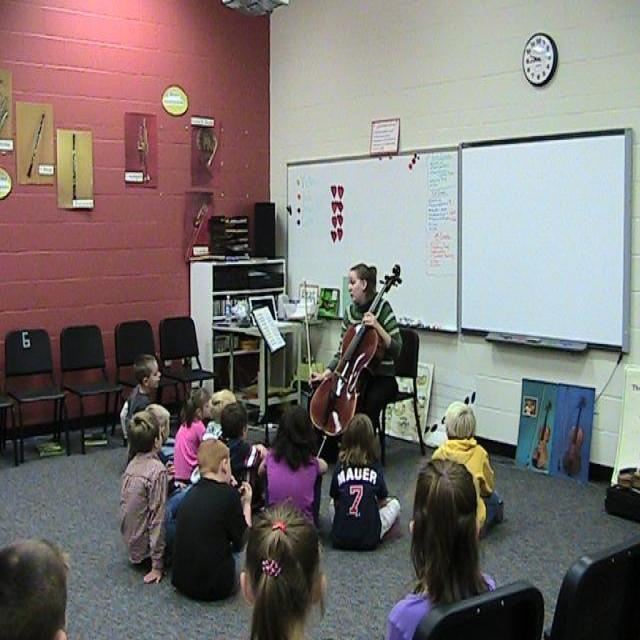cello: (308, 264, 406, 444)
clarinet: (24, 114, 50, 178), (70, 131, 80, 202)
violin: (560, 397, 592, 476), (530, 402, 556, 471)
